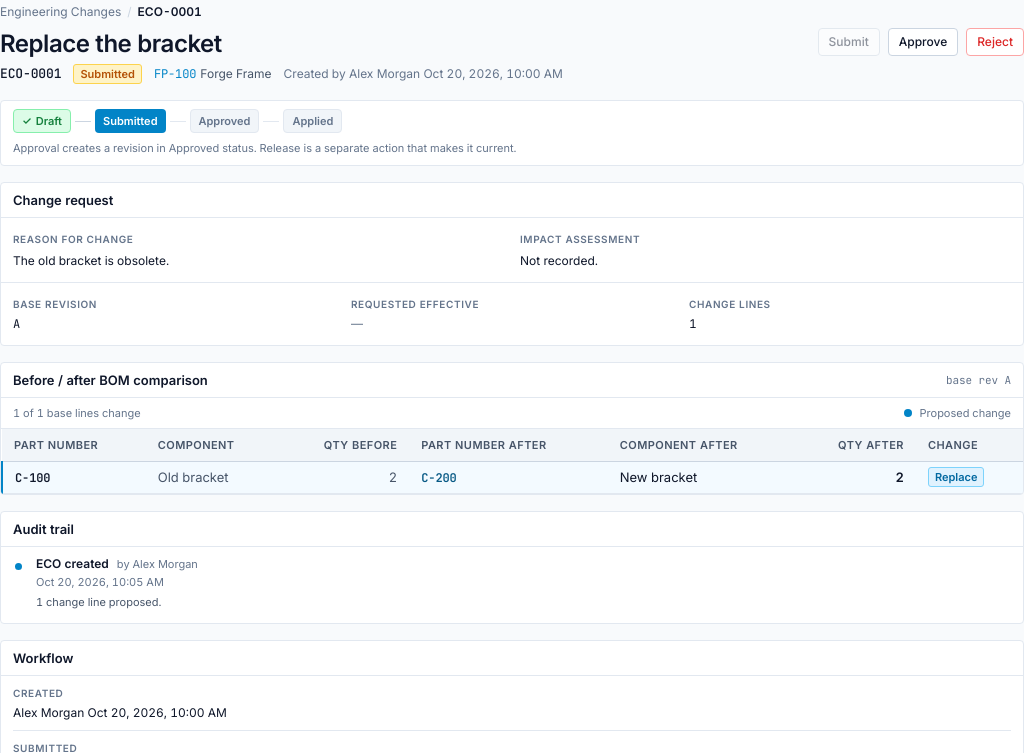
Test case: EcoDetail › requires a rejection reason before enabling the destructive action
The width and height of the screenshot is (1024, 753).
Expected: the heading "Replace the bracket" is shown, [0, 29, 222, 58]
Click the button "Reject" at x=995, y=42, box [966, 28, 1023, 56]
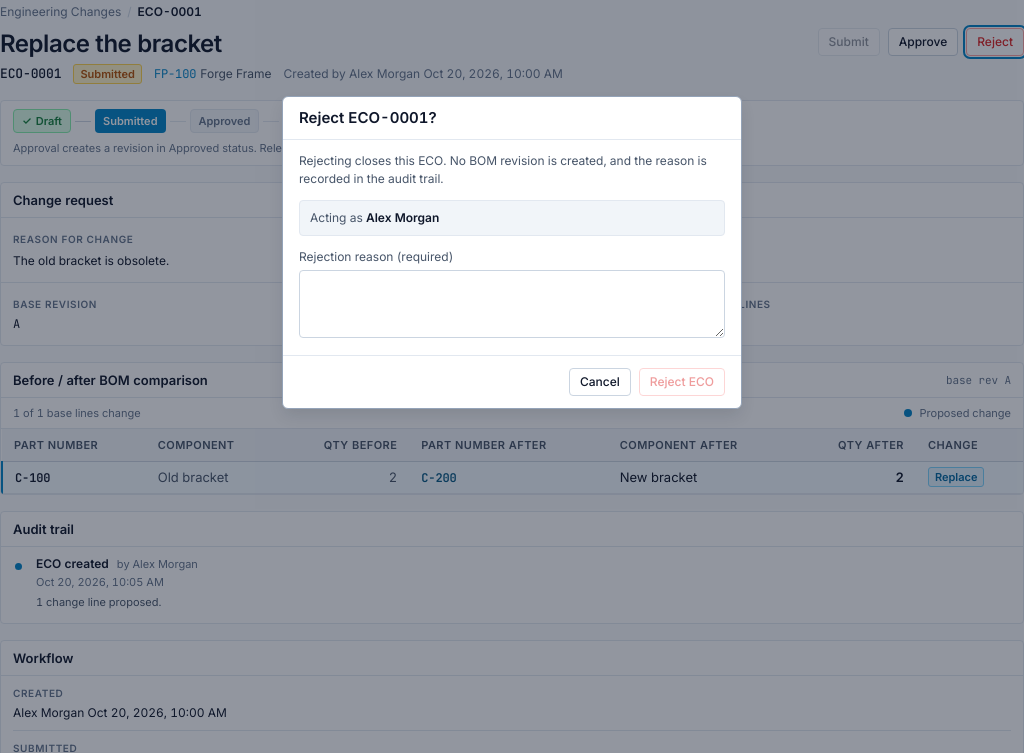
Now the button "Reject ECO" is disabled, box [639, 368, 725, 396]
Type "Out of scope" into the text box labelled "Rejection reason (required)" at x=512, y=304, box [299, 270, 725, 338]
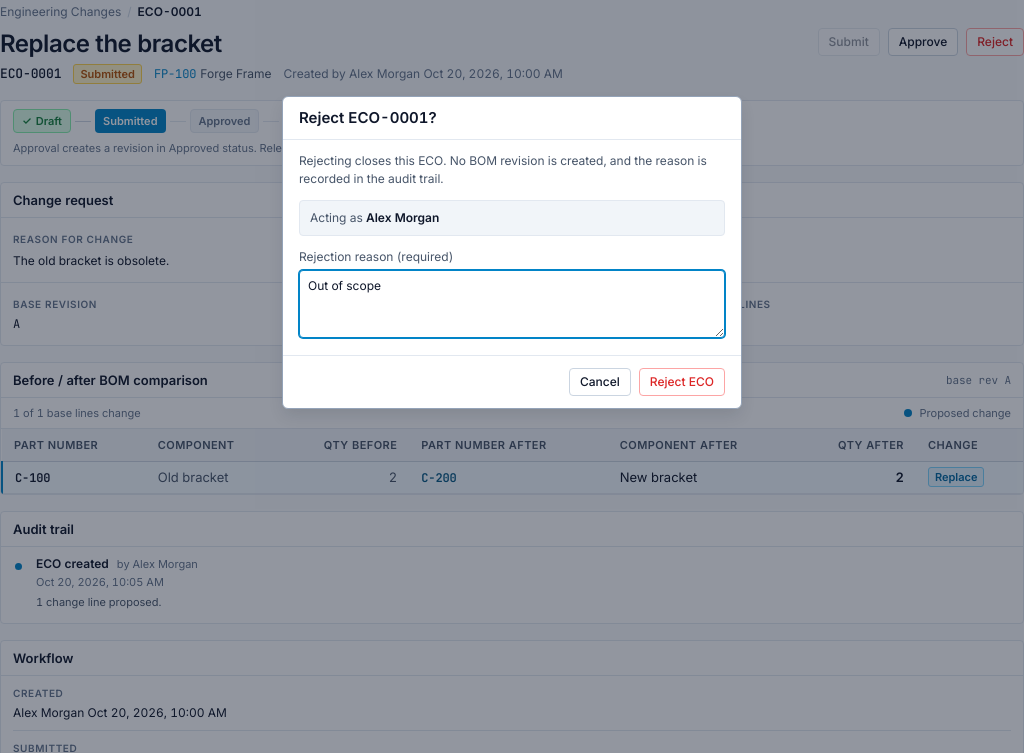
Now the button "Reject ECO" is enabled
Click the button "Reject ECO" at x=682, y=382, box [639, 368, 725, 396]
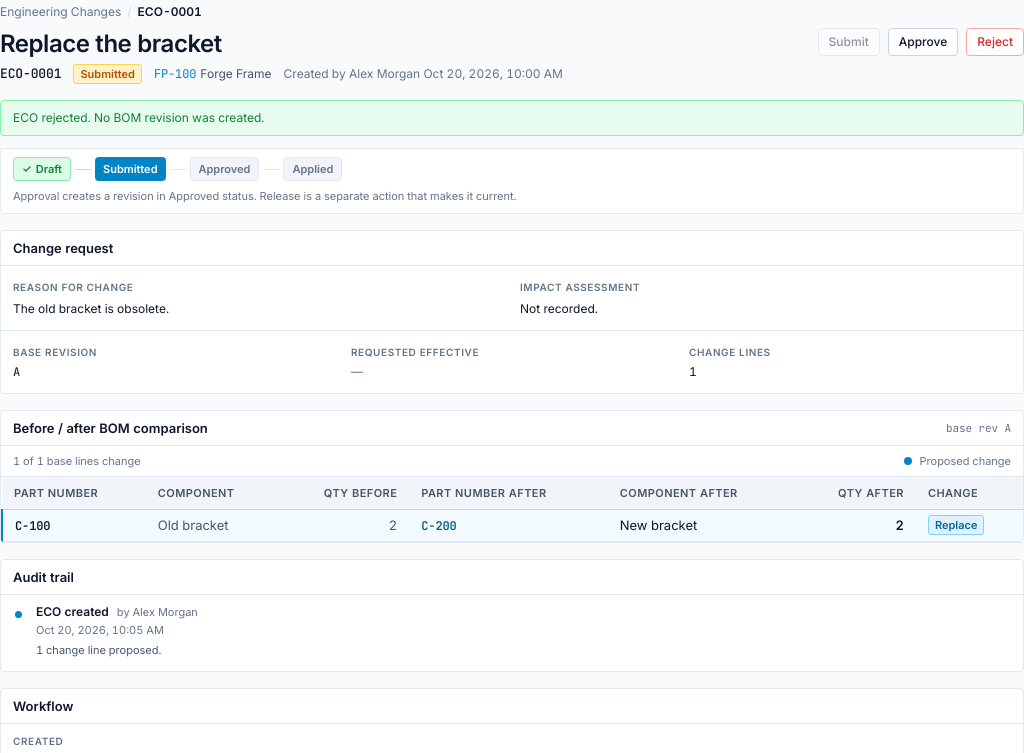
Now the text "ECO rejected. No BOM revision was created." is shown, box [13, 109, 265, 127]
